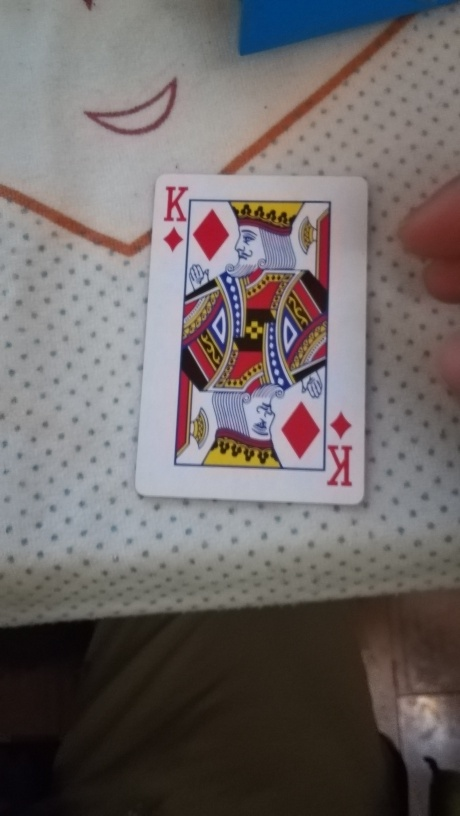fk k: (134, 174, 369, 508)
